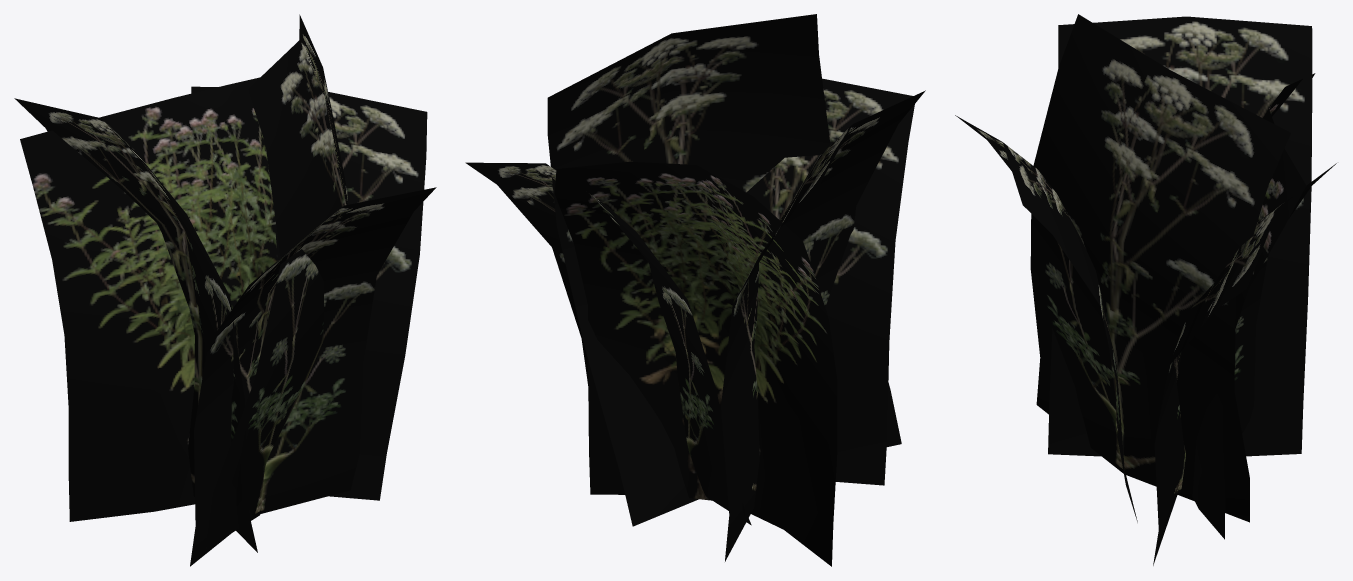
The model's file is mg_9_plant_0.fbx.
The picture shows the model from 3 angles, left to right: view 1: azimuth 30°, elevation 25°; view 2: azimuth 150°, elevation 25°; view 3: azimuth 270°, elevation 25°; orthographic projection. The views are drawn at different scales.
Visible parts, largest first — view 1: mg_9_plant_0; view 2: mg_9_plant_0; view 3: mg_9_plant_0.
Boxes of the visible parts, x1,y1,x2,y2 form: mg_9_plant_0: (14,14,436,566); mg_9_plant_0: (465,14,925,566); mg_9_plant_0: (955,14,1336,565).
Size of the model in its own units: 82.32 by 99.52 by 73.57.
